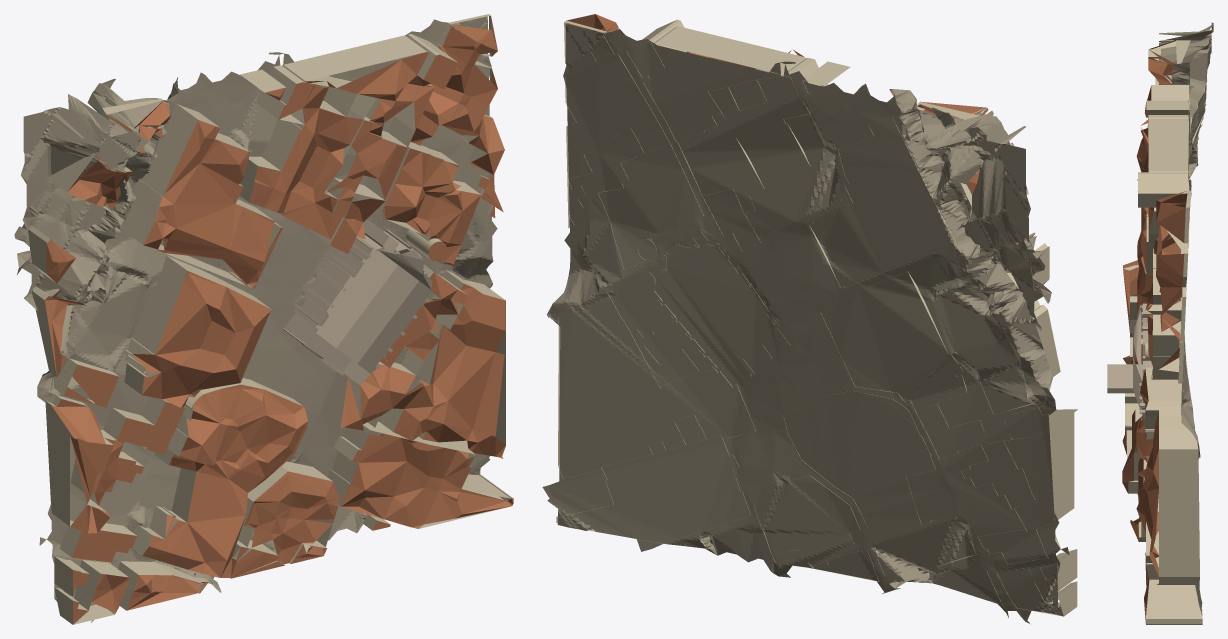
File: santa_maria_v0_3.obj
The picture shows the model from 3 angles, left to right: view 1: azimuth 30°, elevation 25°; view 2: azimuth 150°, elevation 25°; view 3: azimuth 270°, elevation 25°; orthographic projection. The views are drawn at different scales.
Visible parts, largest first — view 1: Terreno_interpolado, Edificio_12_cubierta, Edificio_34_cubierta, Edificio_11_cubierta, Edificio_10_cubierta, Edificio_33_cubierta, Edificio_32_cubierta, Edificio_31_cubierta, Edificio_30_cubierta, Edificio_29_cubierta, Edificio_11_fachadas, Edificio_28_fachadas (+41 smaller); view 2: Terreno_interpolado, Edificio_28_fachadas, Edificio_24_fachadas, Edificio_06_fachadas; view 3: Edificio_34_fachadas, Terreno_interpolado, Edificio_31_cubierta, Edificio_33_fachadas, Edificio_28_fachadas, Edificio_34_cubierta, Edificio_30_fachadas, Edificio_17_fachadas, Edificio_25_fachadas, Edificio_31_fachadas, Concatedral_torre_fachadas, Edificio_12_cubierta (+24 smaller).
Boxes of the visible parts, box(x1,y1,x2,y2) form: Terreno_interpolado: box(14, 16, 497, 622); Edificio_12_cubierta: box(142, 384, 308, 577); Edificio_34_cubierta: box(340, 284, 505, 458); Edificio_11_cubierta: box(143, 120, 282, 288); Edificio_10_cubierta: box(133, 271, 271, 407); Edificio_33_cubierta: box(341, 433, 513, 528); Edificio_32_cubierta: box(249, 82, 363, 239); Edificio_31_cubierta: box(410, 16, 504, 174); Edificio_30_cubierta: box(382, 148, 480, 265); Edificio_29_cubierta: box(244, 471, 339, 564); Edificio_11_fachadas: box(121, 104, 282, 287); Edificio_28_fachadas: box(282, 35, 433, 146); Terreno_interpolado: box(542, 24, 1069, 623); Edificio_28_fachadas: box(643, 26, 805, 141); Edificio_24_fachadas: box(1004, 413, 1074, 528); Edificio_06_fachadas: box(1016, 300, 1060, 377); Edificio_34_fachadas: box(1148, 406, 1199, 584); Terreno_interpolado: box(1159, 22, 1213, 615); Edificio_31_cubierta: box(1153, 191, 1187, 340); Edificio_33_fachadas: box(1146, 466, 1202, 624); Edificio_28_fachadas: box(1148, 119, 1188, 242); Edificio_34_cubierta: box(1136, 411, 1158, 584); Edificio_30_fachadas: box(1148, 248, 1188, 379); Edificio_17_fachadas: box(1138, 172, 1189, 207); Edificio_25_fachadas: box(1145, 367, 1181, 439); Edificio_31_fachadas: box(1162, 190, 1191, 341); Concatedral_torre_fachadas: box(1107, 364, 1142, 393); Edificio_12_cubierta: box(1122, 343, 1145, 493).
Size of the model in its own units: 159 by 160 by 34.52.
